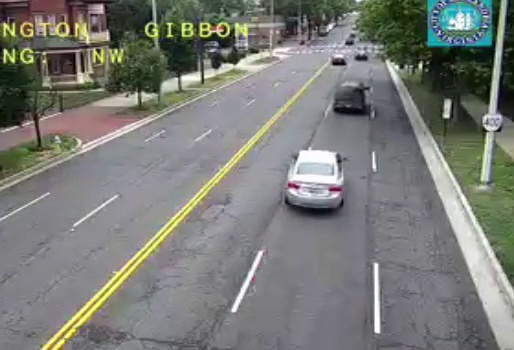car: (285, 149, 345, 209), (333, 81, 364, 111)
